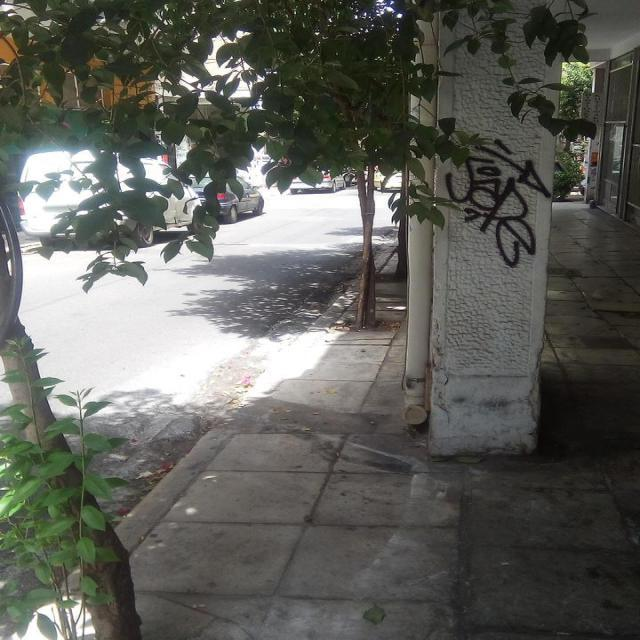nonspitting: (444, 139, 550, 267)
